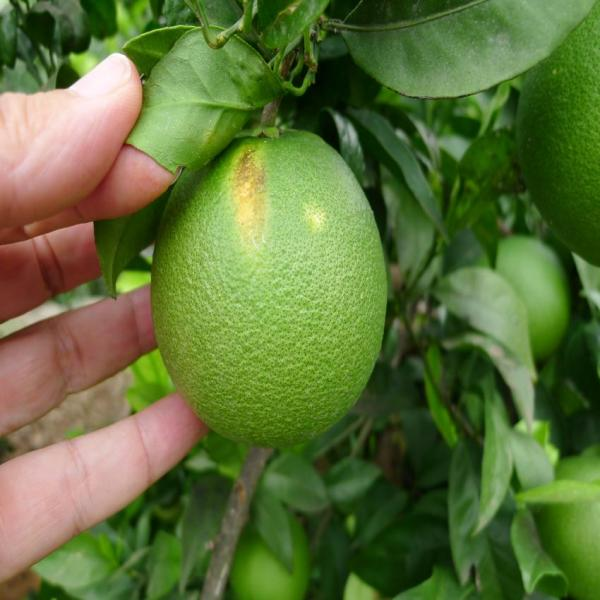Trips: (135, 120, 388, 462)
